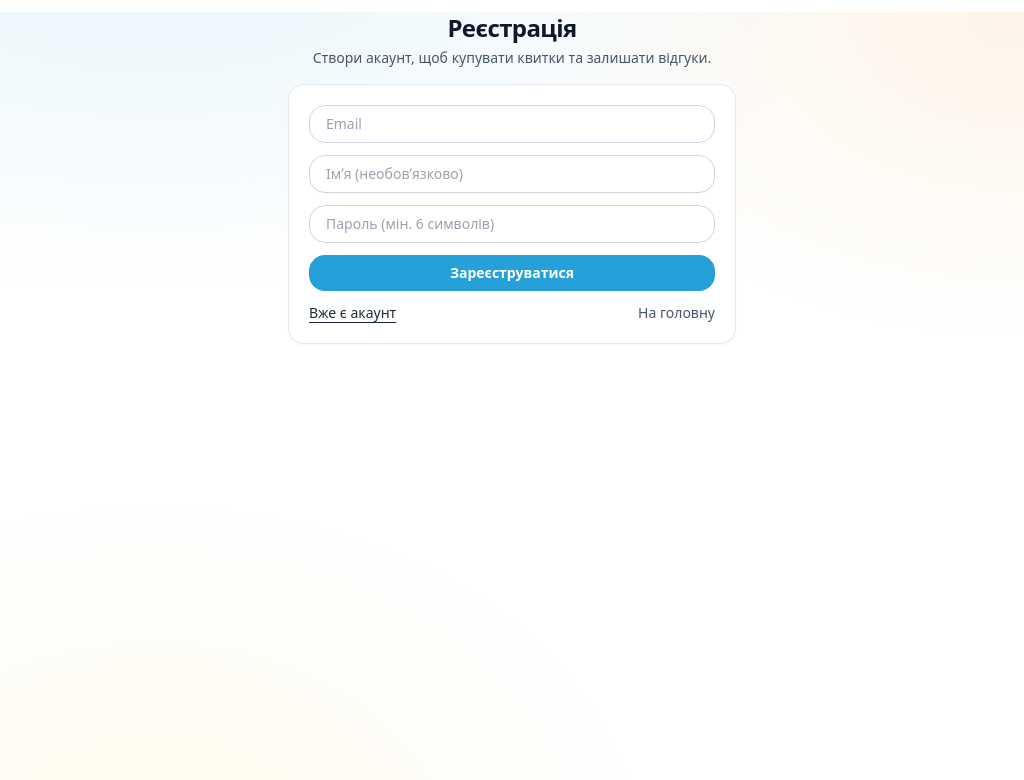
RegisterPage › shows error when register fails
Step 1. Type "user@demo.com" into the field with placeholder "Email" → (512, 124), box x1=309 y1=105 x2=715 y2=143
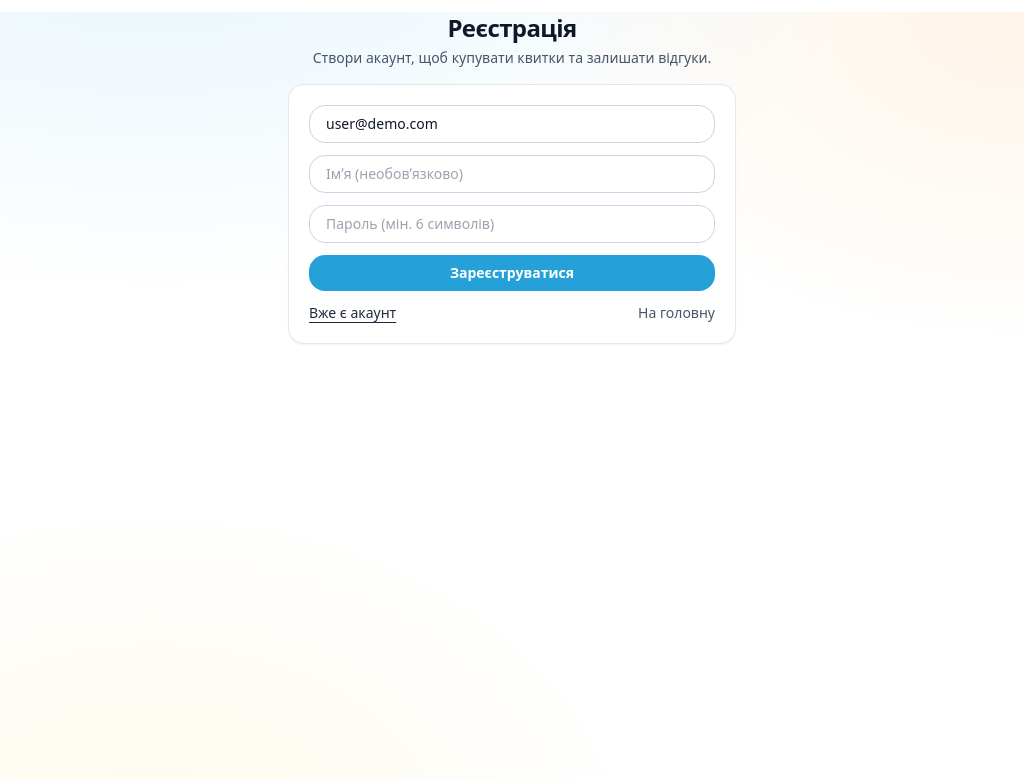
Step 2. Type "pass123" into the password field with placeholder "Пароль (мін. 6 символів)" → (512, 224), box x1=309 y1=205 x2=715 y2=243
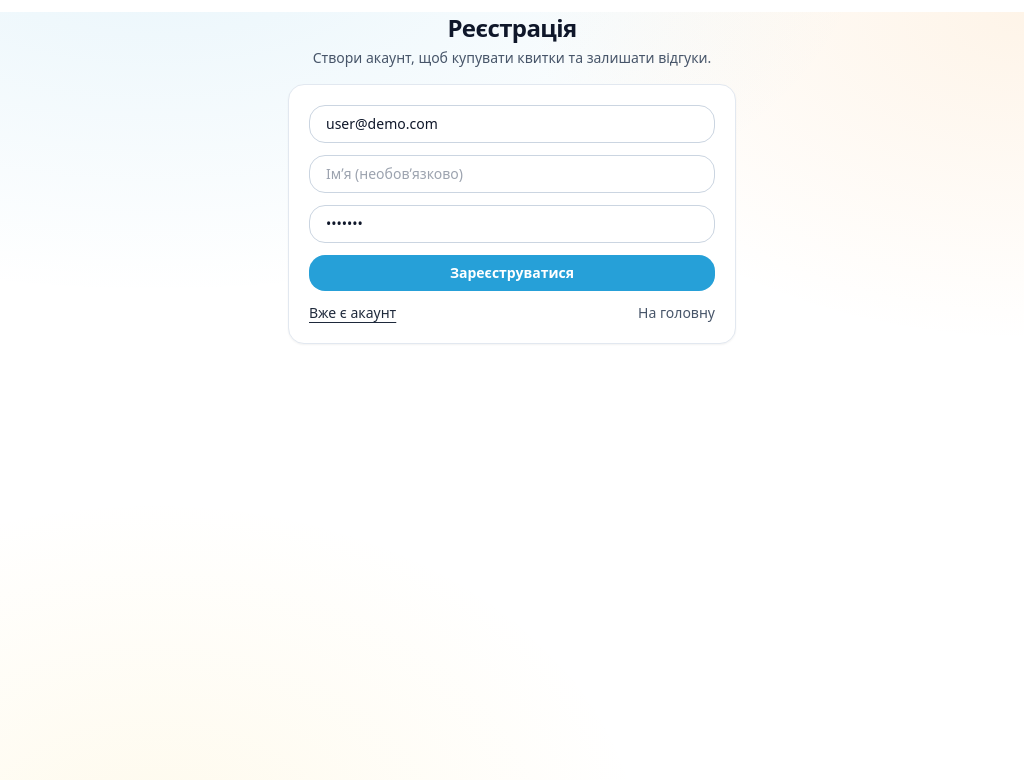
Step 3. Click the button "Зареєструватися" → (512, 273), box x1=309 y1=255 x2=715 y2=291
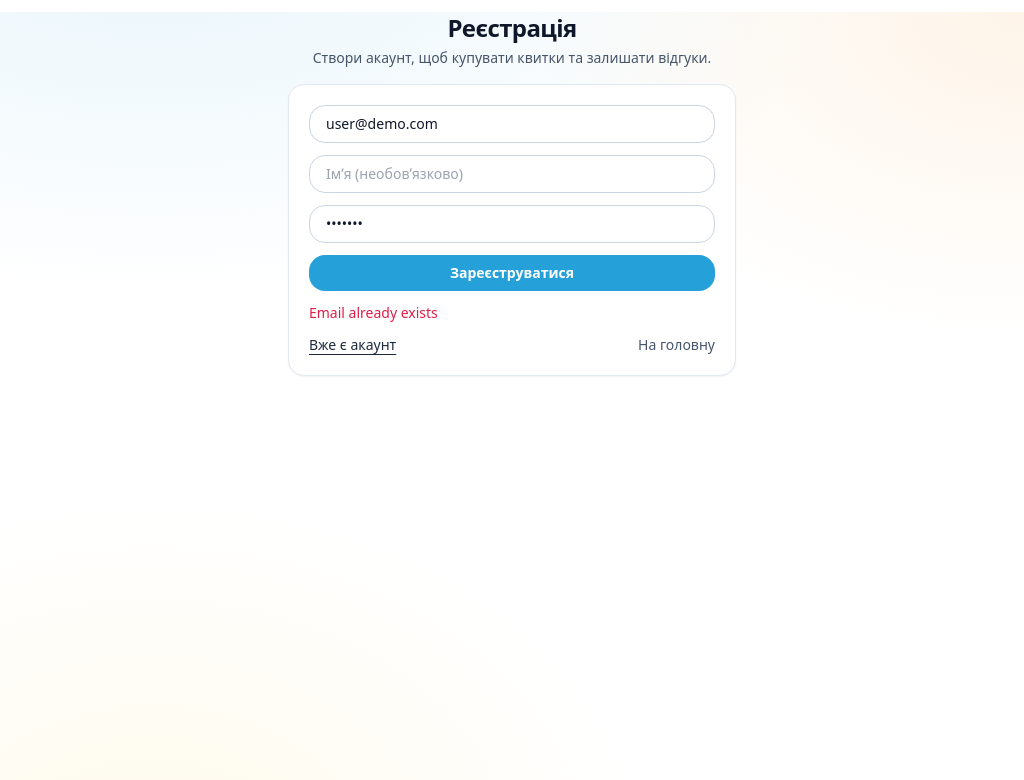
Expected: the text "Email already exists" is shown, x1=309 y1=303 x2=438 y2=322
